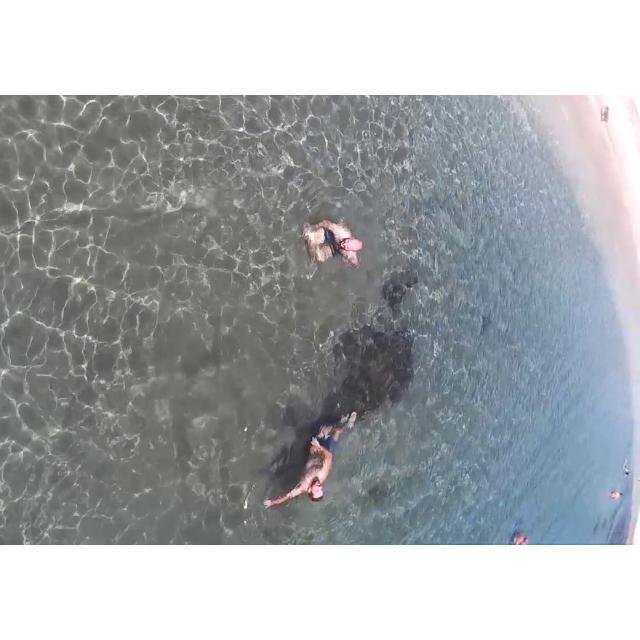human: (240, 387, 391, 537), (288, 210, 381, 297)
